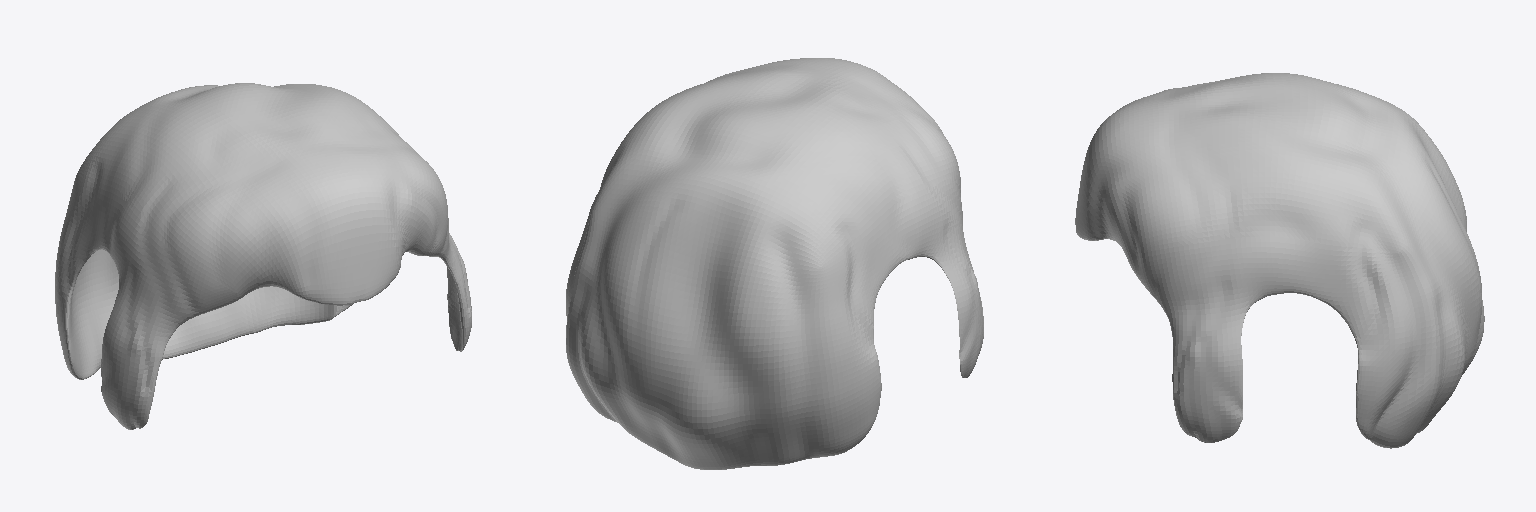
File: Extract6.OBJ
3 renders of one model, left to right at view 1: azimuth 30°, elevation 25°; view 2: azimuth 150°, elevation 25°; view 3: azimuth 270°, elevation 25°, orthographic.
Visible parts, largest first — view 1: Group10000, Group20000, Group16335; view 2: Group10000; view 3: Group10000.
Part boxes in pixels (left/top/right/bottom): Group10000: left=55, top=83, right=471, bottom=429; Group20000: left=67, top=250, right=463, bottom=379; Group16335: left=66, top=248, right=465, bottom=429; Group10000: left=566, top=58, right=983, bottom=469; Group10000: left=1075, top=73, right=1484, bottom=448.
Bounding box in the file's own units: 39.43 × 33.42 × 39.79.